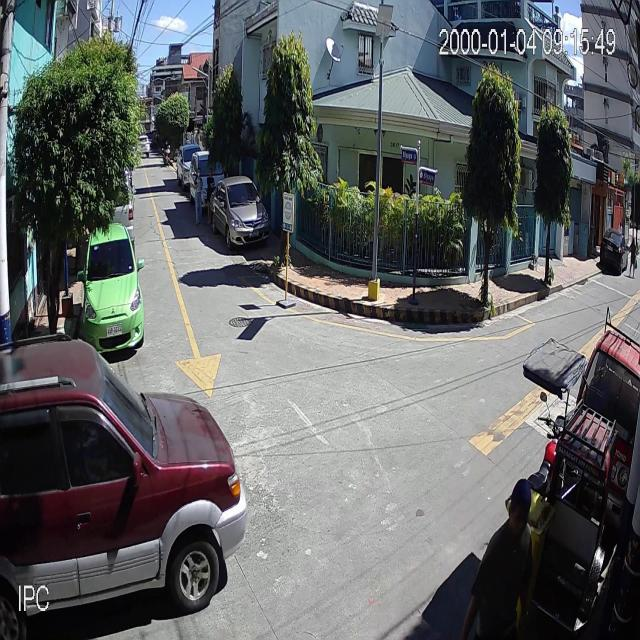walking: (455, 476, 529, 640)
